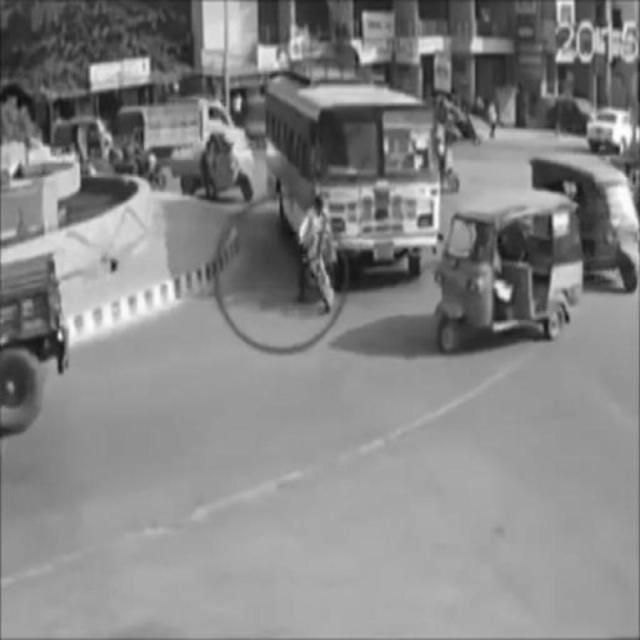accident: (265, 72, 439, 312)
vehicle: (436, 197, 578, 353), (172, 129, 255, 197)
